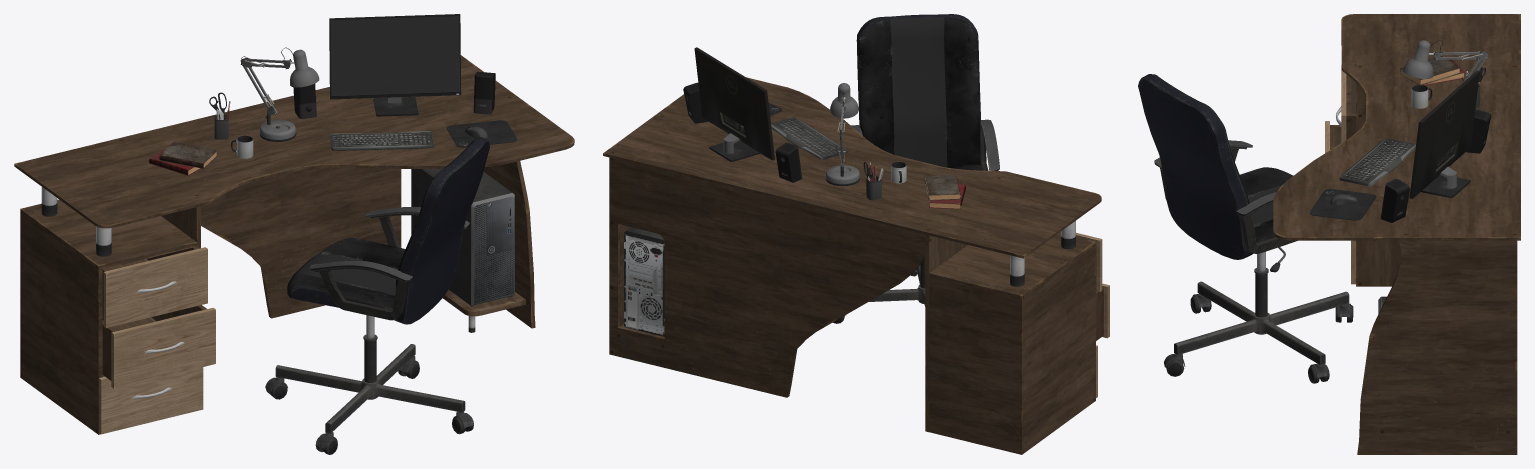
The model's file is computer_desk_opt.glb.
3 views of the same model, side by side, from view 1: azimuth 30°, elevation 25°; view 2: azimuth 150°, elevation 25°; view 3: azimuth 270°, elevation 25° (orthographic). The views are drawn at different scales.
Parts seen in each view (by area): view 1: Desk, Chair, Monitor, Drawer02, Computer, Drawer01, Drawer03, DeskLamp, Keyboard, Mat, Book01, Loudspeaker02 (+1 smaller); view 2: Desk, Chair, Monitor, Computer, Keyboard, DeskLamp, Book01, Loudspeaker01, Drawer02, Loudspeaker02; view 3: Desk, Chair, Monitor, Keyboard, DeskLamp, Mat, Drawer01, Loudspeaker02, Book01, Loudspeaker01, Cup, Drawer02.
Boxes of the visible parts, left/top/right/bottom form: Desk: left=14, top=55, right=574, bottom=434; Chair: left=265, top=137, right=489, bottom=454; Monitor: left=329, top=14, right=461, bottom=116; Drawer02: left=102, top=305, right=215, bottom=388; Computer: left=411, top=169, right=514, bottom=306; Drawer01: left=102, top=246, right=207, bottom=328; Drawer03: left=99, top=367, right=203, bottom=434; DeskLamp: left=240, top=47, right=319, bottom=141; Keyboard: left=329, top=131, right=433, bottom=150; Mat: left=446, top=120, right=517, bottom=147; Book01: left=159, top=142, right=217, bottom=168; Loudspeaker02: left=473, top=71, right=495, bottom=114; Desk: left=603, top=77, right=1101, bottom=454; Chair: left=833, top=14, right=999, bottom=323; Monitor: left=694, top=47, right=774, bottom=161; Computer: left=624, top=227, right=664, bottom=336; Keyboard: left=771, top=117, right=848, bottom=159; DeskLamp: left=825, top=83, right=859, bottom=186; Book01: left=924, top=174, right=960, bottom=200; Loudspeaker01: left=775, top=142, right=802, bottom=182; Drawer02: left=1096, top=283, right=1109, bottom=340; Loudspeaker02: left=683, top=82, right=708, bottom=123; Desk: left=1273, top=14, right=1520, bottom=454; Chair: left=1138, top=74, right=1353, bottom=383; Monitor: left=1409, top=70, right=1479, bottom=198; Keyboard: left=1339, top=138, right=1415, bottom=186; DeskLamp: left=1403, top=40, right=1487, bottom=82; Mat: left=1309, top=189, right=1376, bottom=220; Drawer01: left=1336, top=65, right=1355, bottom=142; Loudspeaker02: left=1380, top=178, right=1409, bottom=222; Book01: left=1400, top=56, right=1460, bottom=84; Loudspeaker01: left=1466, top=109, right=1491, bottom=153; Cup: left=1411, top=85, right=1432, bottom=108; Drawer02: left=1325, top=121, right=1341, bottom=153.
Size of the model in its own units: 2.13 by 1.39 by 1.54.
14 materials, 14 textured.
